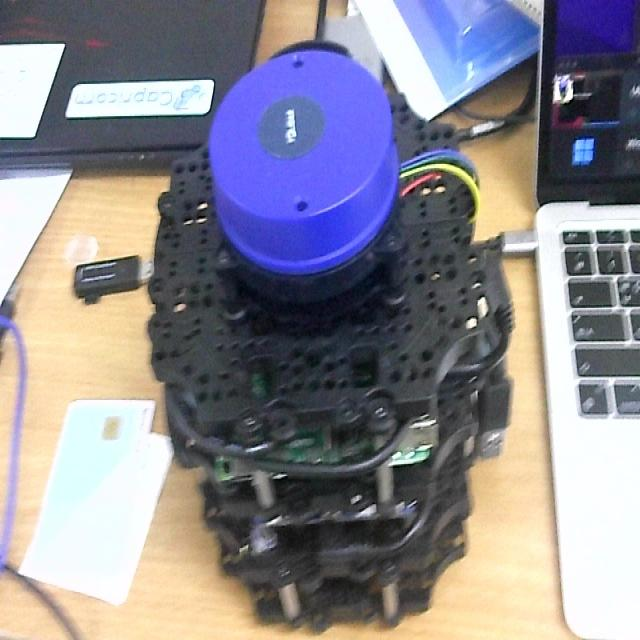turtle: (145, 38, 516, 636)
